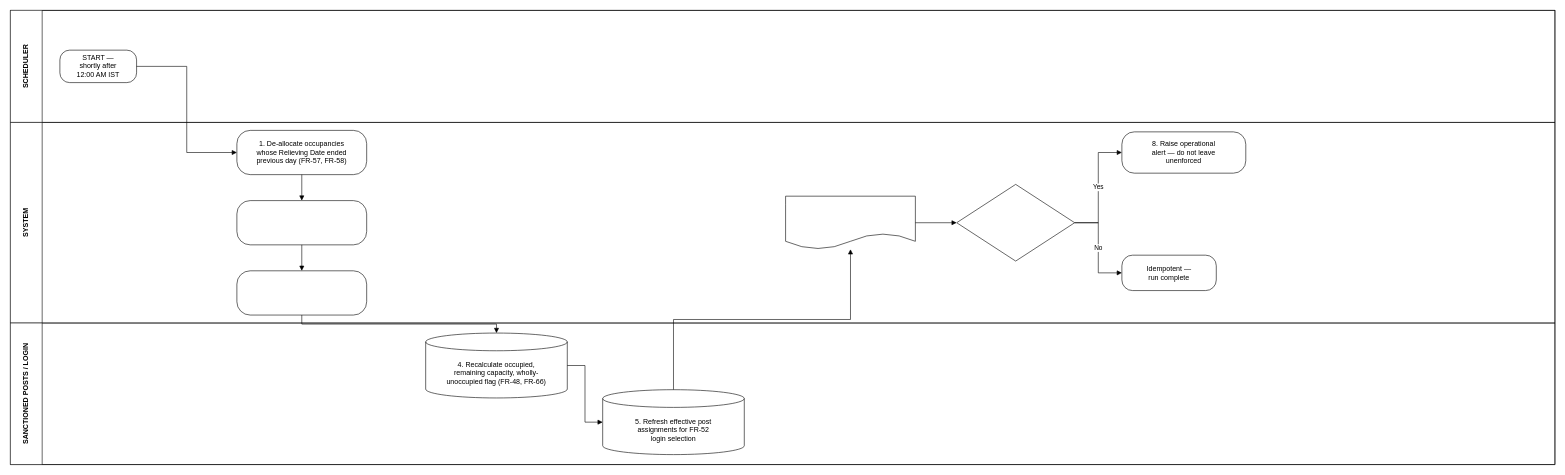
Some shapes in this 1565 by 475 pixel diagram are drawn without their labels. The shapes that lost their labels are listed below. From the top down, each one's centre as x and y in pixels, then its label:
the point at 301,222: 2. De-allocate occupancies whose optional End Date has been reached (FR-30)
the point at 850,222: 6. Write occupancy-refresh audit (run time, ended, activated, before/after)
the point at 1015,222: 7. Job failed?
the point at 301,292: 3. Activate reserved Transfer In occupancies due today (FR-60/61/67)
